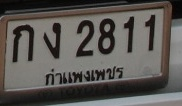txt01: (10, 24, 36, 64)
txt05: (40, 21, 62, 60)
